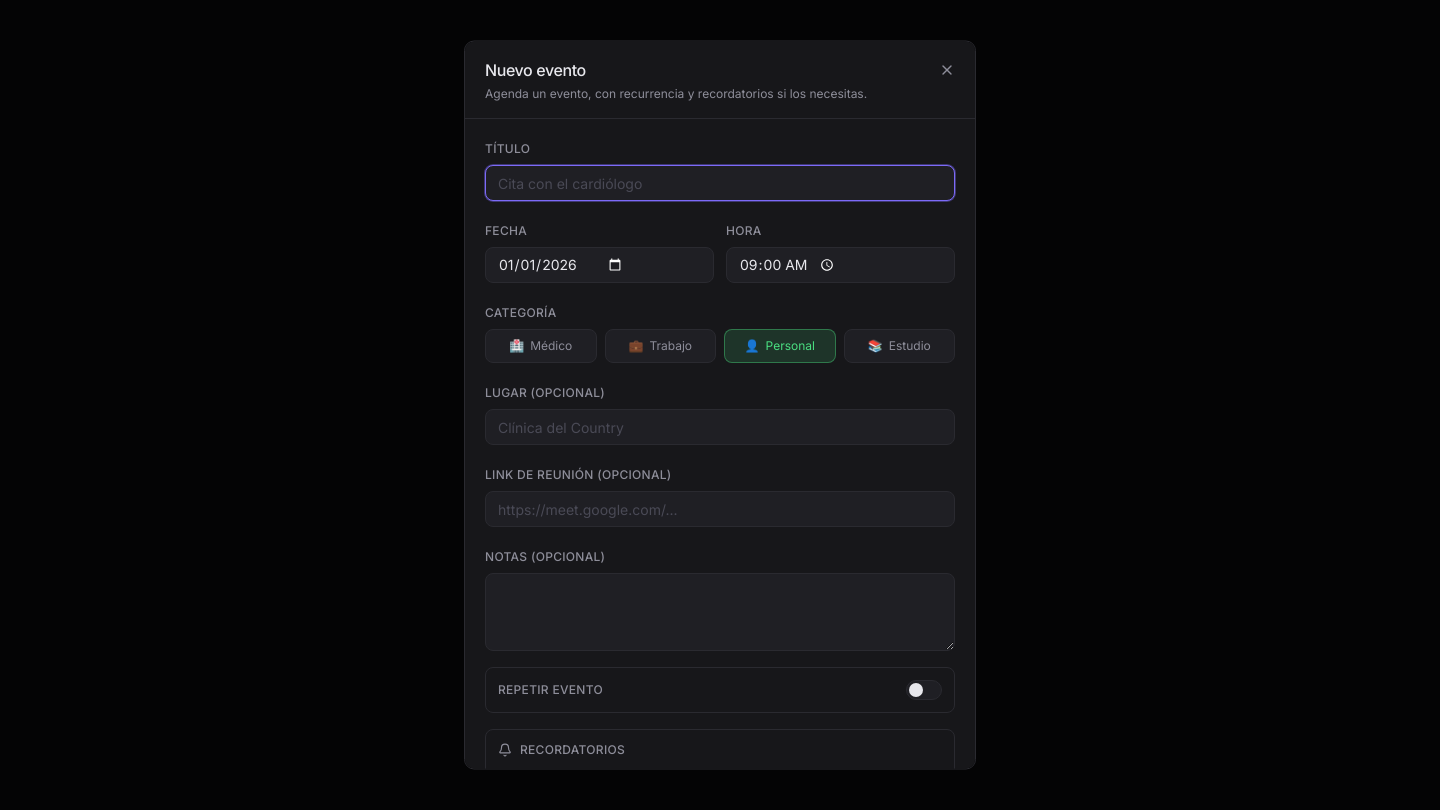
Scenario: EventFormDialog › activar el switch de recurrencia revela frecuencia, intervalo y fecha fin
Click the switch named "repetir evento" at (924, 690), box [906,680,942,700]
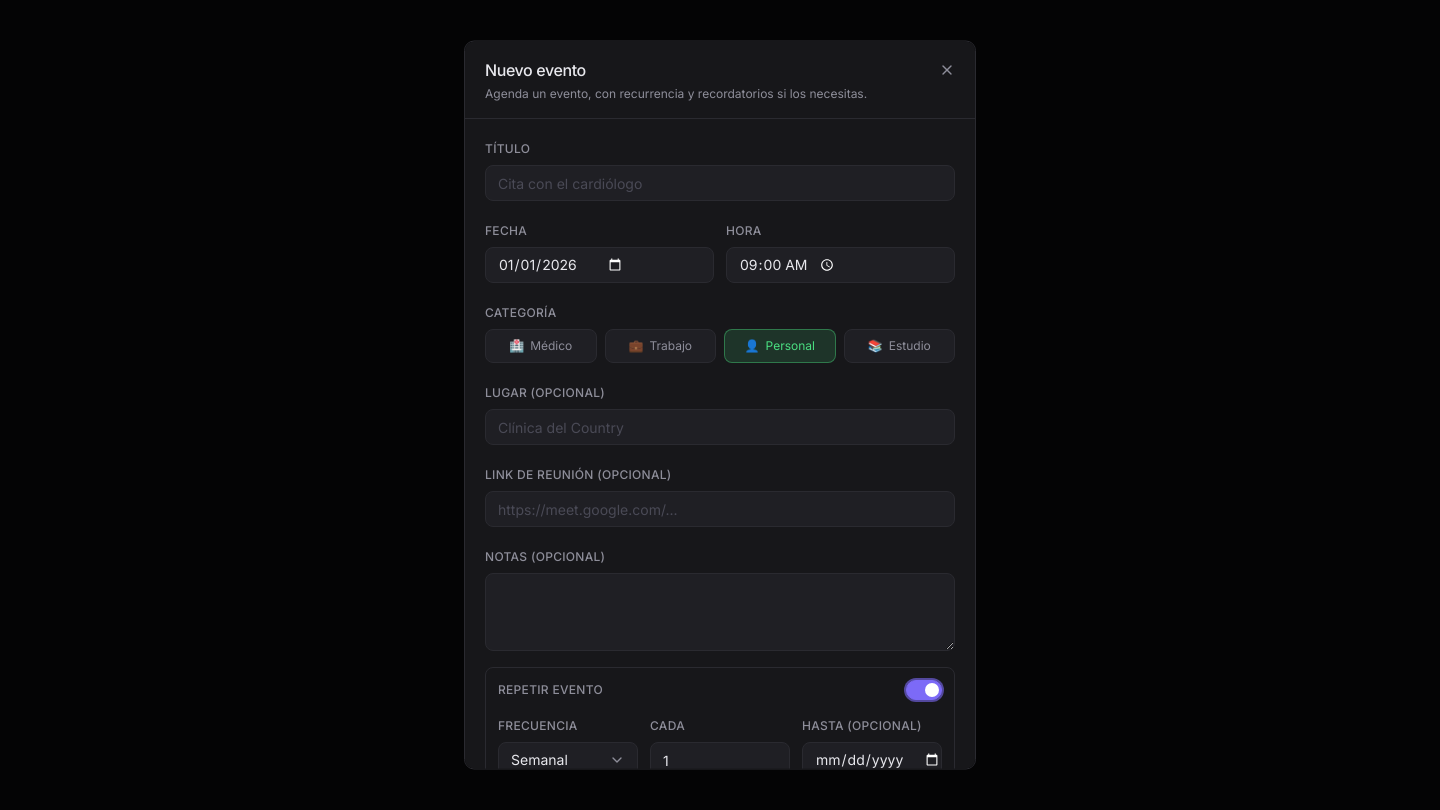
Expected: the dropdown named "Frecuencia" is shown, [498,742,638,770]
Expected: the field labelled "Cada" is shown, [650,742,790,770]
Expected: the date field labelled "Hasta (opcional)" is shown, [802,742,942,770]
